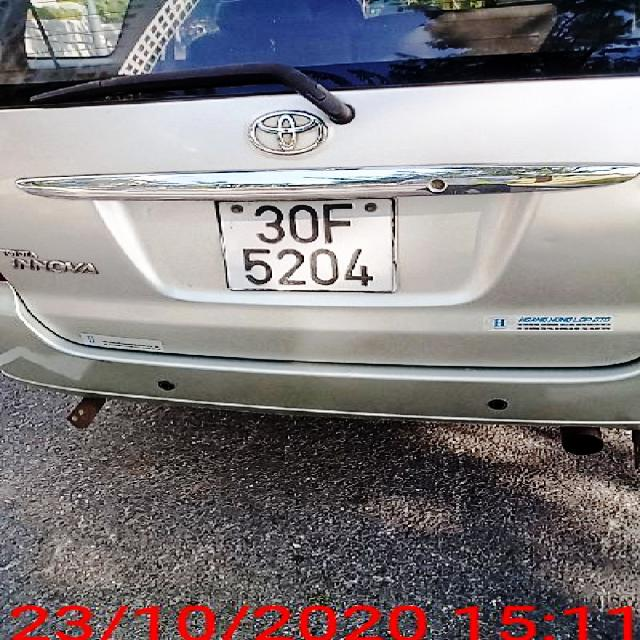license_plate: (218, 197, 404, 294)
